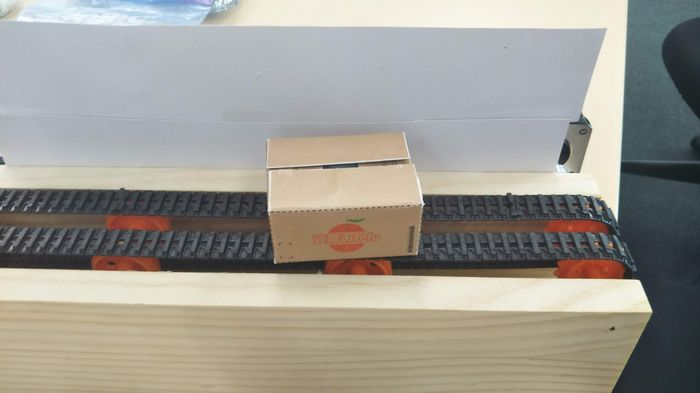box1: (262, 130, 426, 263)
